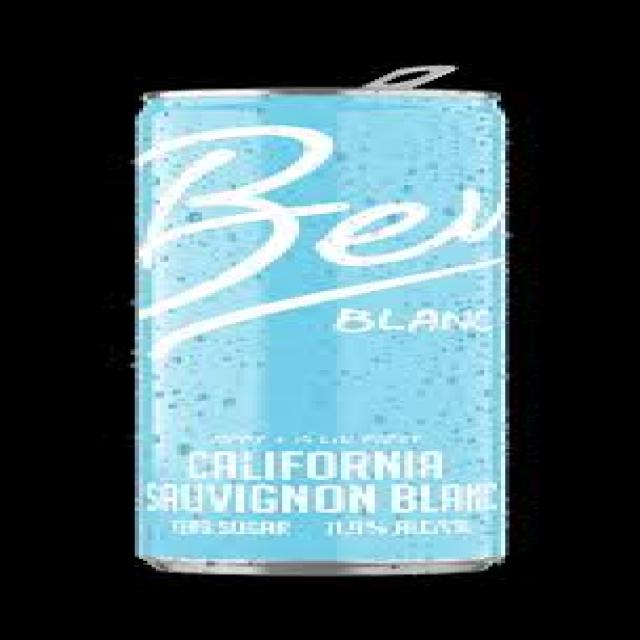Cans: (105, 77, 539, 586)
